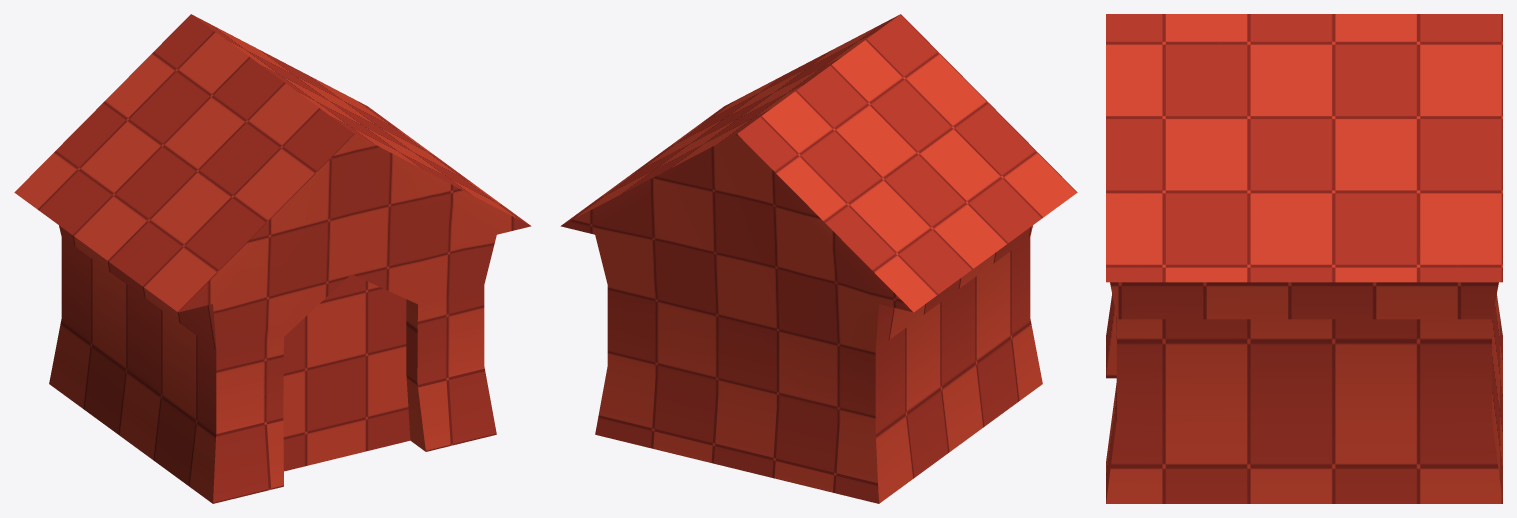
Rendered from CheckpointPH.fbx.
3 views of the same model, side by side, from view 1: azimuth 30°, elevation 25°; view 2: azimuth 150°, elevation 25°; view 3: azimuth 270°, elevation 25° (orthographic). The views are drawn at different scales.
Parts seen in each view (by area): view 1: Cube.002; view 2: Cube.002; view 3: Cube.002.
Boxes of the visible parts, <box> form: Cube.002: <box>14,14,531,503</box>; Cube.002: <box>560,14,1077,503</box>; Cube.002: <box>1106,14,1502,503</box>.
Size of the model in its own units: 149 by 120 by 135.
